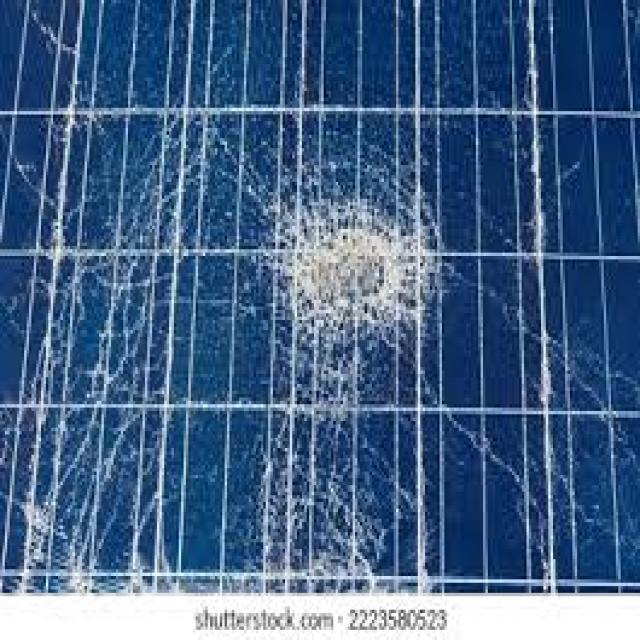faulty: (1, 0, 637, 592)
